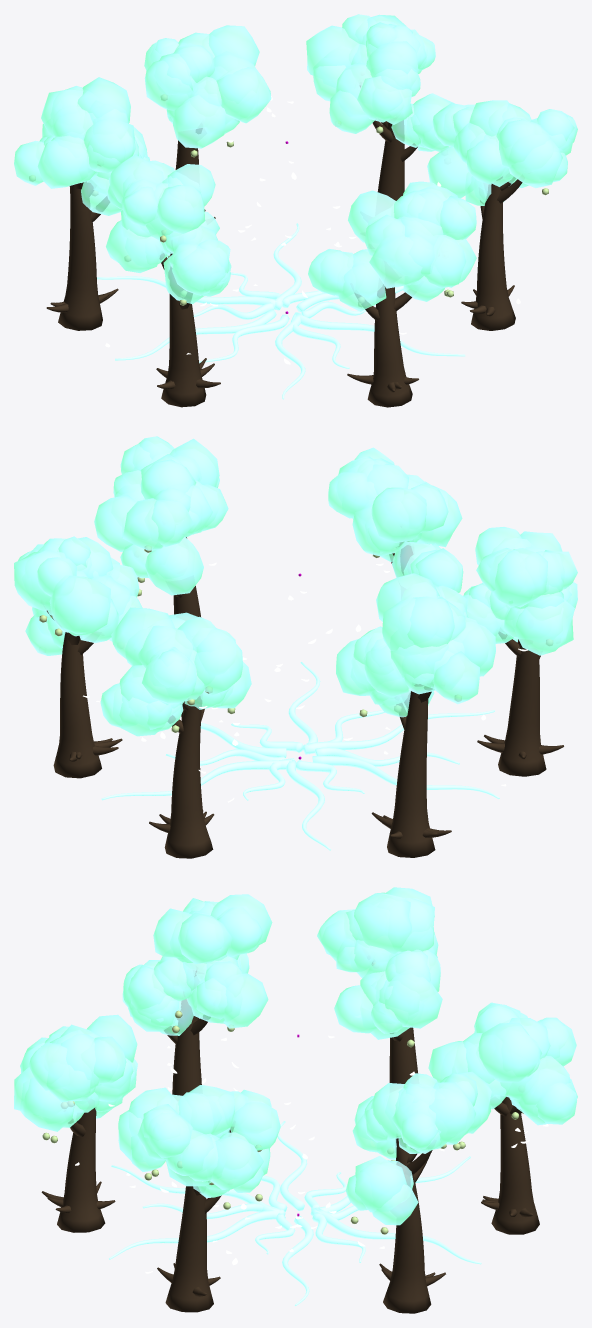
File: NatureUltimate.fbx
The picture shows the model from 3 angles, top to bottom: view 1: azimuth 30°, elevation 25°; view 2: azimuth 150°, elevation 25°; view 3: azimuth 270°, elevation 25°; orthographic projection. The views are drawn at different scales.
Visible parts, largest first — view 1: Canopy_05, Canopy_01, Canopy_04, Canopy_06, Canopy_02, Canopy_03, Roots, Trunk_03, Trunk_06, Trunk_04, Trunk_05, Trunk_01 (+1 smaller); view 2: Canopy_03, Canopy_06, Canopy_02, Canopy_05, Canopy_04, Canopy_01, Roots, Trunk_03, Trunk_02, Trunk_01, Trunk_04, Petals (+1 smaller); view 3: Canopy_04, Canopy_03, Canopy_06, Canopy_01, Canopy_02, Canopy_05, Roots, Trunk_01, Trunk_02, Trunk_06, Trunk_05, Trunk_04 (+2 smaller).
Boxes of the visible parts, x1,y1,x2,y2 form: Canopy_05: (308, 181, 476, 311); Canopy_01: (306, 14, 454, 151); Canopy_04: (106, 154, 231, 304); Canopy_06: (427, 100, 577, 205); Canopy_02: (144, 25, 271, 148); Canopy_03: (14, 77, 149, 215); Roots: (97, 223, 465, 399); Trunk_03: (46, 182, 118, 330); Trunk_06: (461, 177, 522, 330); Trunk_04: (156, 253, 220, 407); Trunk_05: (347, 284, 418, 407); Trunk_01: (360, 86, 417, 200); Canopy_03: (336, 573, 495, 717); Canopy_06: (94, 436, 228, 595); Canopy_02: (100, 607, 251, 736); Canopy_05: (328, 447, 463, 592); Canopy_04: (463, 527, 577, 655); Canopy_01: (14, 536, 142, 655); Roots: (101, 662, 499, 850); Trunk_03: (371, 684, 451, 857); Trunk_02: (149, 696, 214, 858); Trunk_01: (47, 610, 122, 778); Trunk_04: (477, 632, 563, 776); Petals: (83, 562, 527, 802); Canopy_04: (122, 894, 272, 1035); Canopy_03: (317, 887, 442, 1039); Canopy_06: (118, 1085, 280, 1197); Canopy_01: (345, 1071, 491, 1225); Canopy_02: (428, 1002, 577, 1125); Canopy_05: (14, 1014, 137, 1131); Roots: (109, 1121, 481, 1305); Trunk_01: (379, 1138, 445, 1313); Trunk_02: (481, 1097, 539, 1234); Trunk_06: (157, 1127, 233, 1312); Trunk_05: (41, 1107, 115, 1232); Trunk_04: (164, 971, 210, 1095).
Size of the model in its own units: 27.3 by 14.4 by 28.55.
